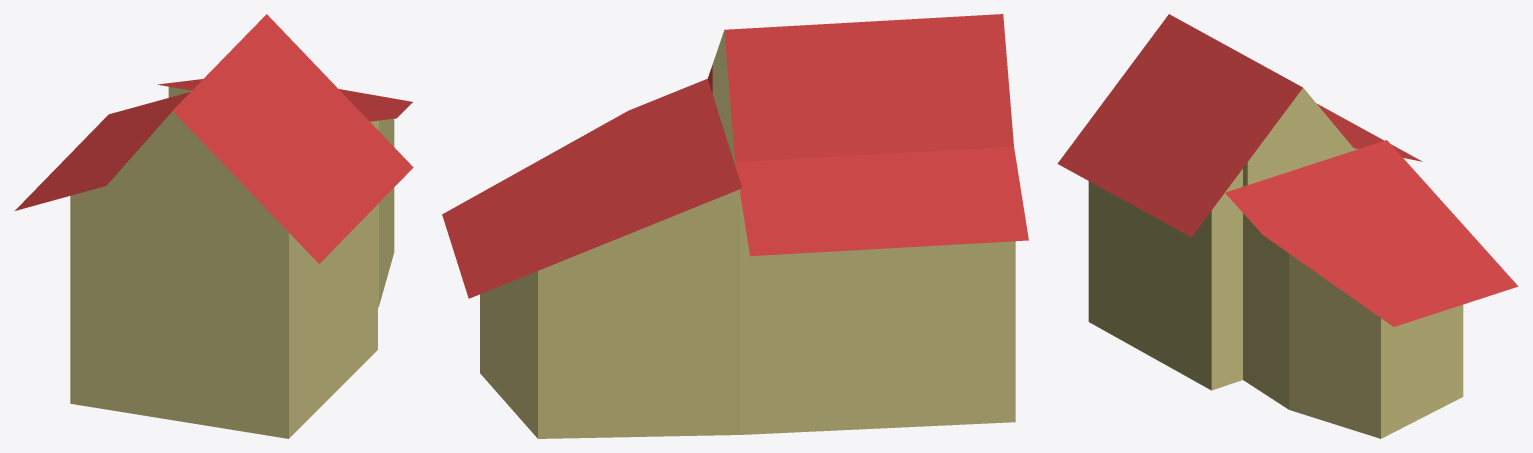
3 views of the same model, side by side, from view 1: azimuth 30°, elevation 25°; view 2: azimuth 150°, elevation 25°; view 3: azimuth 270°, elevation 25° (orthographic). The views are drawn at different scales.
Bounding box in the file's own units: 17.41 × 17.11 × 11.35.
